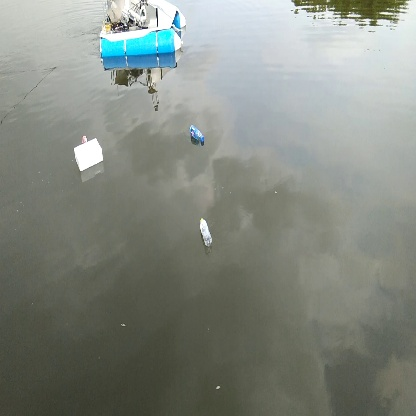bottle: (186, 122, 211, 147), (196, 216, 215, 248)
plastic-garbage: (72, 137, 105, 172)
